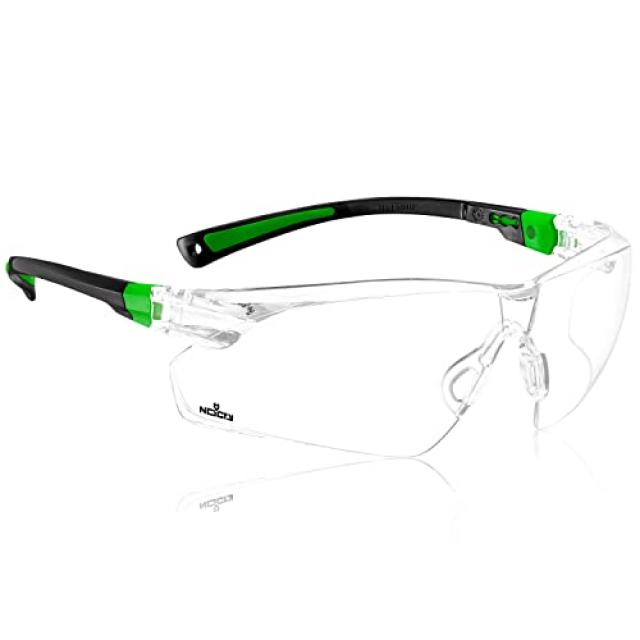Protective Glasses: (38, 200, 637, 442)
